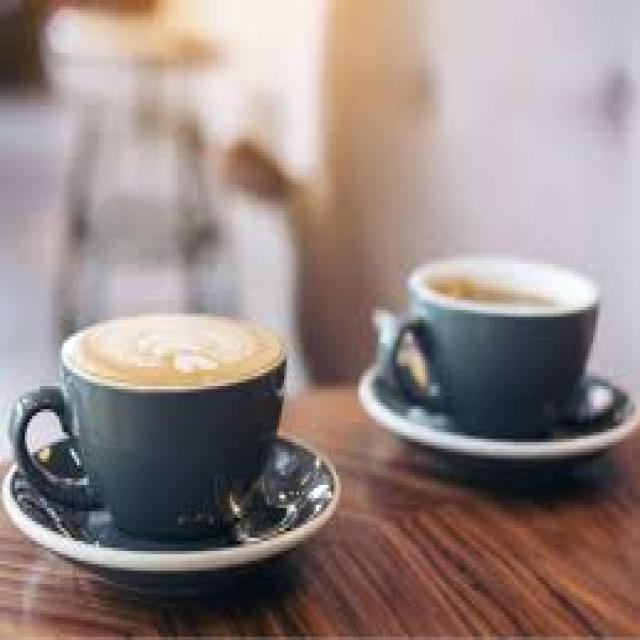taza: (9, 308, 300, 534), (380, 246, 604, 435)
